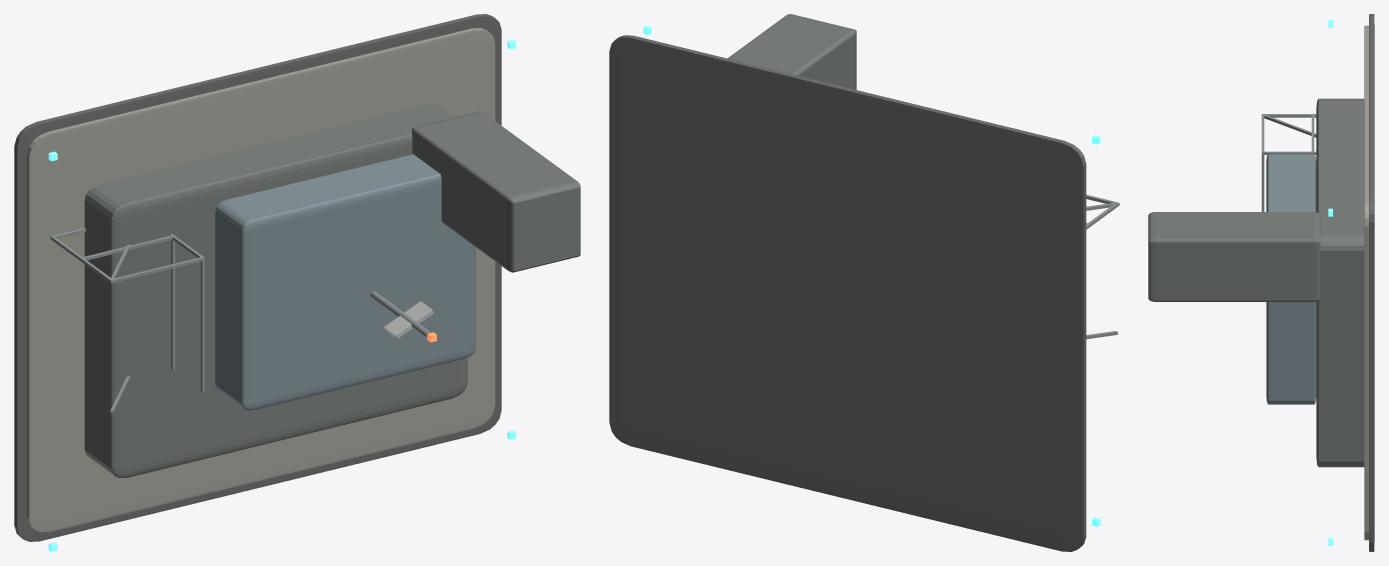
The model's file is b-14-special-ops-center-lod2.glb.
3 renders of one model, left to right at view 1: azimuth 30°, elevation 25°; view 2: azimuth 150°, elevation 25°; view 3: azimuth 270°, elevation 25°, orthographic. The views are drawn at different scales.
Visible parts, largest first — view 1: foundation_inner_pad, primary_terrace_lower, primary_terrace_upper, training_tower, foundation, specops_sensor_array_1; view 2: foundation, training_tower; view 3: primary_terrace_lower, training_tower, primary_terrace_upper, foundation, foundation_inner_pad.
Boxes of the visible parts, <box> form: foundation_inner_pad: <box>26,28,495,532</box>; primary_terrace_lower: <box>84,104,467,478</box>; primary_terrace_upper: <box>215,154,475,410</box>; training_tower: <box>412,111,580,272</box>; foundation: <box>14,14,501,541</box>; specops_sensor_array_1: <box>384,301,433,339</box>; foundation: <box>609,35,1086,551</box>; training_tower: <box>727,14,856,89</box>; primary_terrace_lower: <box>1316,98,1364,467</box>; training_tower: <box>1148,212,1320,301</box>; primary_terrace_upper: <box>1266,154,1316,404</box>; foundation: <box>1369,14,1374,551</box>; foundation_inner_pad: <box>1364,25,1368,540</box>.
Size of what is drawn, in the model's own units: 17 by 14 by 8.15.
